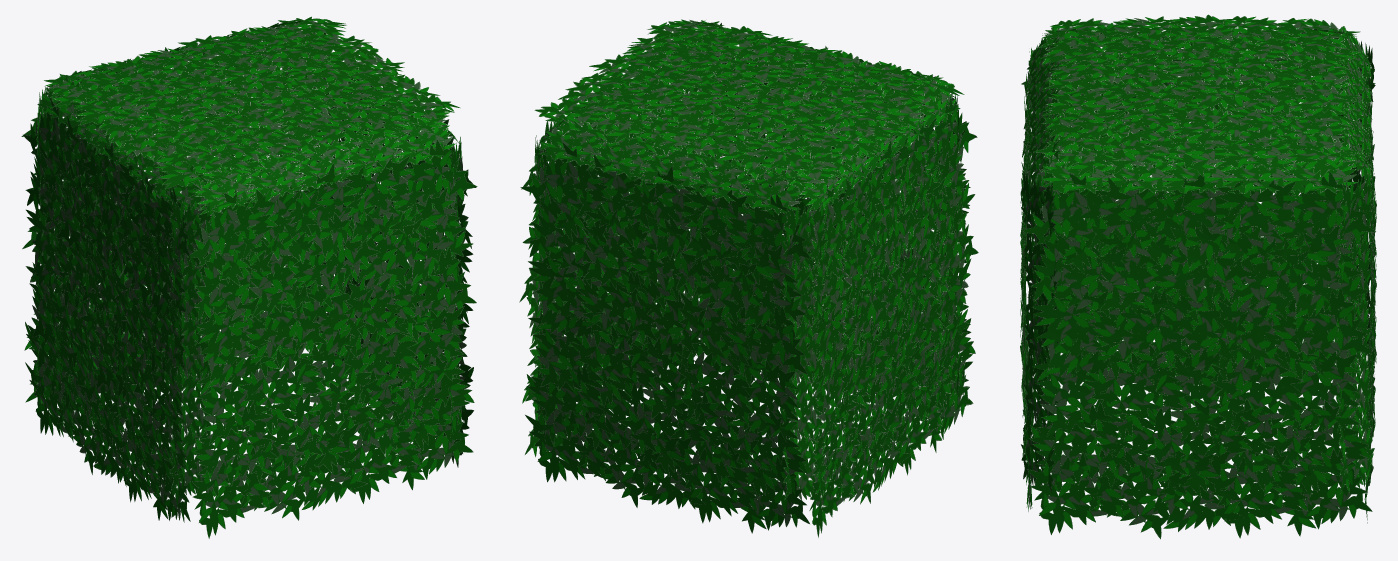
File: wall01.fbx
The picture shows the model from 3 angles, left to right: view 1: azimuth 30°, elevation 25°; view 2: azimuth 150°, elevation 25°; view 3: azimuth 270°, elevation 25°; orthographic projection. The views are drawn at different scales.
Parts seen in each view (by area): view 1: plane4 (×3), plane25 (×3), plane18 (×3), plane10 (×3), plane5 (×3), plane9 (×3), plane14 (×3), plane13 (×3), plane15 (×3), plane2 (×3), plane17 (×3), plane3 (×3) (+23 smaller); view 2: plane14 (×3), plane9 (×3), plane2 (×3), plane17 (×3), plane18 (×3), plane13 (×3), plane29 (×3), plane25 (×3), plane19 (×3), plane10 (×3), plane5 (×3), plane24 (×3) (+23 smaller); view 3: plane4 (×2), plane2 (×2), plane10 (×2), plane14 (×2), plane9 (×2), plane1 (×2), plane (×2), plane5 (×2), plane3 (×2), plane13 (×2), plane17 (×2), plane18 (×2) (+23 smaller).
Part boxes in pixels (x1=…): plane4 (×3): x1=23, y1=93, x2=460, y2=285; plane25 (×3): x1=25, y1=145, x2=271, y2=538; plane18 (×3): x1=48, y1=101, x2=326, y2=434; plane10 (×3): x1=26, y1=112, x2=367, y2=387; plane5 (×3): x1=26, y1=101, x2=411, y2=322; plane9 (×3): x1=138, y1=26, x2=473, y2=320; plane14 (×3): x1=138, y1=35, x2=476, y2=373; plane13 (×3): x1=53, y1=89, x2=331, y2=378; plane15 (×3): x1=25, y1=124, x2=318, y2=445; plane2 (×3): x1=140, y1=16, x2=477, y2=274; plane17 (×3): x1=109, y1=65, x2=419, y2=412; plane3 (×3): x1=55, y1=71, x2=440, y2=264; plane14 (×3): x1=631, y1=114, x2=978, y2=386; plane9 (×3): x1=581, y1=101, x2=975, y2=328; plane2 (×3): x1=534, y1=95, x2=976, y2=284; plane17 (×3): x1=674, y1=105, x2=944, y2=426; plane18 (×3): x1=569, y1=66, x2=890, y2=421; plane13 (×3): x1=576, y1=56, x2=891, y2=366; plane29 (×3): x1=725, y1=150, x2=973, y2=533; plane25 (×3): x1=525, y1=71, x2=964, y2=537; plane19 (×3): x1=673, y1=124, x2=971, y2=441; plane10 (×3): x1=528, y1=36, x2=859, y2=385; plane5 (×3): x1=527, y1=26, x2=858, y2=320; plane24 (×3): x1=717, y1=138, x2=975, y2=497; plane4 (×2): x1=1021, y1=132, x2=1132, y2=274; plane2 (×2): x1=1265, y1=132, x2=1375, y2=272; plane10 (×2): x1=1032, y1=79, x2=1125, y2=377; plane14 (×2): x1=1269, y1=82, x2=1372, y2=381; plane9 (×2): x1=1267, y1=108, x2=1369, y2=318; plane1 (×2): x1=1216, y1=128, x2=1301, y2=263; plane (×2): x1=1143, y1=131, x2=1252, y2=272; plane5 (×2): x1=1030, y1=108, x2=1128, y2=318; plane3 (×2): x1=1090, y1=130, x2=1187, y2=268; plane13 (×2): x1=1090, y1=80, x2=1190, y2=380; plane17 (×2): x1=1211, y1=55, x2=1304, y2=433; plane18 (×2): x1=1082, y1=56, x2=1189, y2=441.
Bounding box in the file's own units: 11.69 × 12.79 × 10.97.
Materials: 1 (1 with a texture image).
